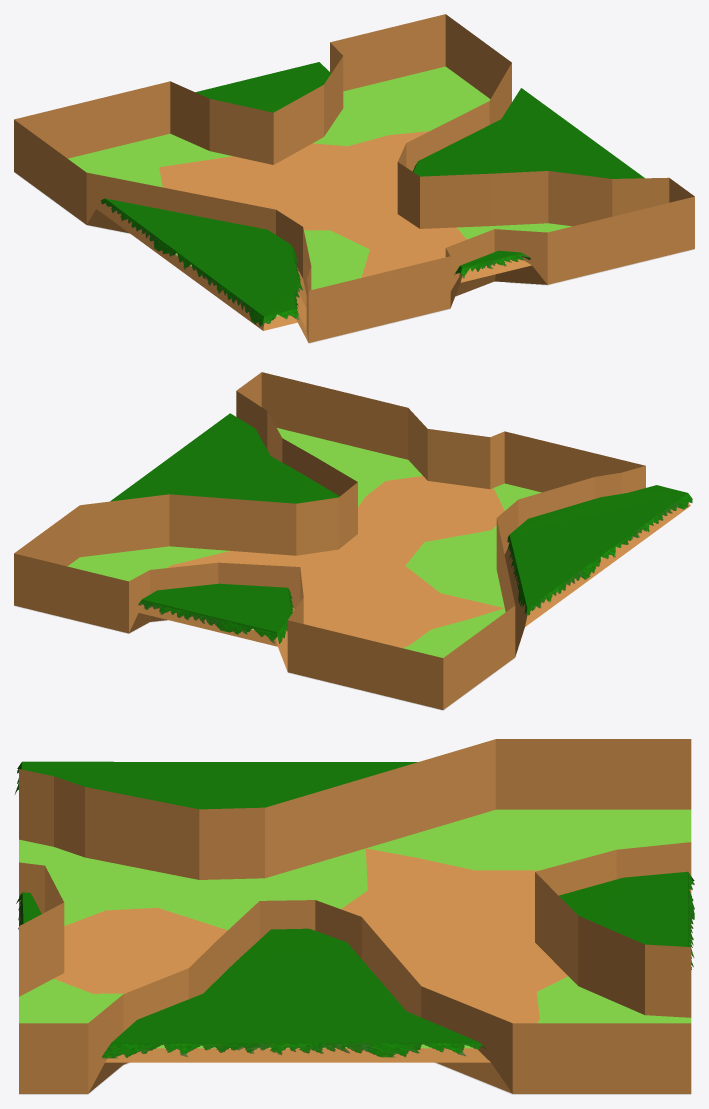
The model's file is field1.dae.
The picture shows the model from 3 angles, top to bottom: view 1: azimuth 30°, elevation 25°; view 2: azimuth 150°, elevation 25°; view 3: azimuth 270°, elevation 25°; orthographic projection. The views are drawn at different scales.
Visible parts, largest first — view 1: colis, Plane, grasstop, Plane.001; view 2: colis, Plane, grasstop; view 3: colis, Plane, grasstop.
Boxes of the visible parts, box(x1,y1,x2,y2) form: colis: box(14, 14, 694, 342); Plane: box(68, 66, 571, 341); grasstop: box(100, 62, 644, 326); Plane.001: box(14, 172, 694, 343); colis: box(14, 372, 645, 709); Plane: box(67, 428, 690, 671); grasstop: box(110, 413, 692, 643); colis: box(19, 739, 691, 1093); Plane: box(19, 809, 691, 1093); grasstop: box(15, 761, 694, 1058).
Bounding box in the file's own units: 8.08 × 8.1 × 0.9396.
Materials: 3 (1 with a texture image).
